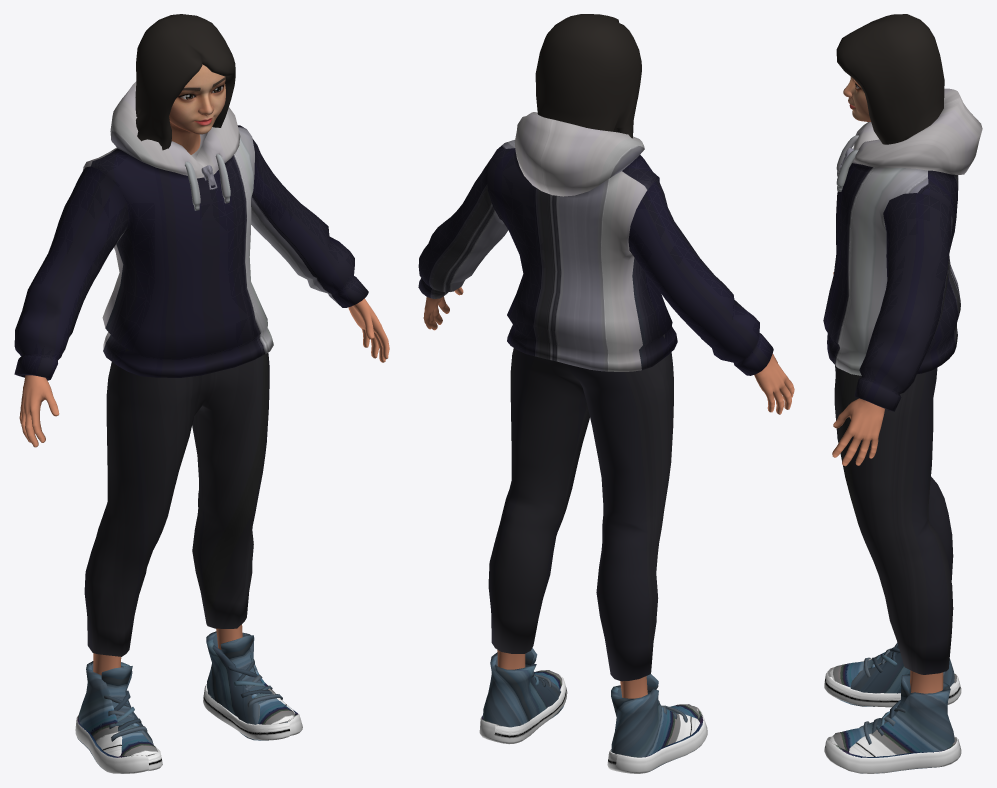
The model's file is avatar.fbx.
3 renders of one model, left to right at view 1: azimuth 30°, elevation 25°; view 2: azimuth 150°, elevation 25°; view 3: azimuth 270°, elevation 25°, orthographic.
Parts seen in each view (by area): view 1: Wolf3D_Outfit_Top, Wolf3D_Outfit_Bottom, Wolf3D_Outfit_Footwear, Wolf3D_Hair, Wolf3D_Body, Wolf3D_Head; view 2: Wolf3D_Outfit_Top, Wolf3D_Outfit_Bottom, Wolf3D_Outfit_Footwear, Wolf3D_Hair, Wolf3D_Body; view 3: Wolf3D_Outfit_Top, Wolf3D_Outfit_Bottom, Wolf3D_Outfit_Footwear, Wolf3D_Hair, Wolf3D_Body, Wolf3D_Head.
Boxes of the visible parts, x1,y1,x2,y2 form: Wolf3D_Outfit_Top: [14, 81, 368, 380]; Wolf3D_Outfit_Bottom: [84, 348, 269, 656]; Wolf3D_Outfit_Footwear: [75, 631, 302, 773]; Wolf3D_Hair: [135, 14, 235, 150]; Wolf3D_Body: [19, 298, 389, 675]; Wolf3D_Head: [169, 64, 225, 154]; Wolf3D_Outfit_Top: [418, 112, 773, 375]; Wolf3D_Outfit_Bottom: [488, 334, 673, 681]; Wolf3D_Outfit_Footwear: [479, 648, 707, 773]; Wolf3D_Hair: [535, 14, 641, 138]; Wolf3D_Body: [423, 287, 794, 698]; Wolf3D_Outfit_Top: [823, 88, 982, 411]; Wolf3D_Outfit_Bottom: [834, 365, 953, 674]; Wolf3D_Outfit_Footwear: [824, 642, 961, 773]; Wolf3D_Hair: [836, 14, 944, 144]; Wolf3D_Body: [832, 272, 943, 693]; Wolf3D_Head: [843, 77, 870, 121].
Size of the model in its own units: 0.9283 by 1.77 by 0.3601.
Materials: 8 (8 with a texture image).
